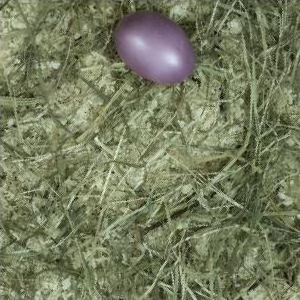egg: (117, 12, 197, 83)
